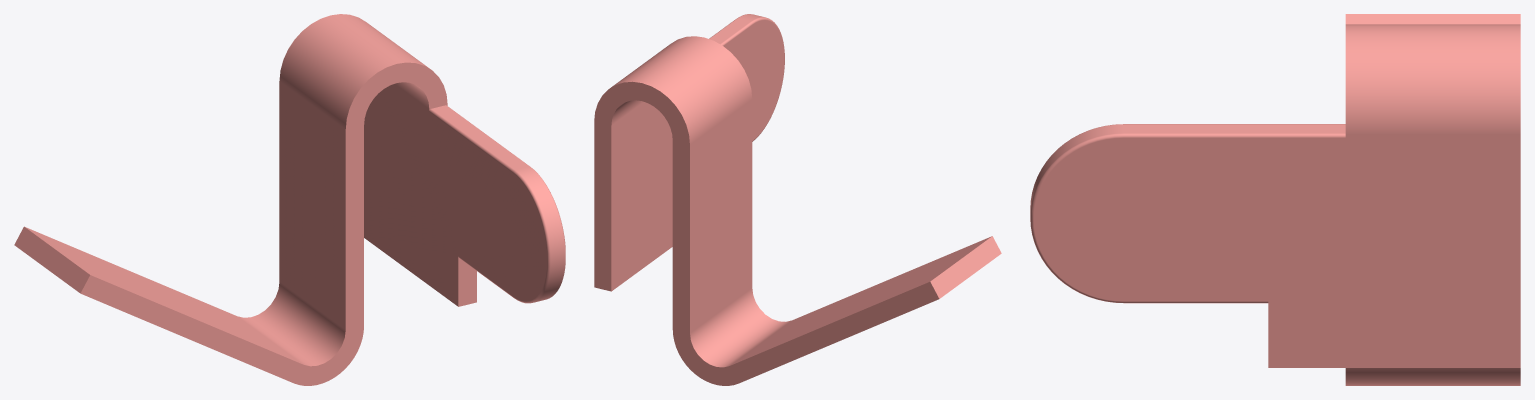
The model's file is part 3 end contact.fbx.
3 renders of one model, left to right at view 1: azimuth 30°, elevation 25°; view 2: azimuth 150°, elevation 25°; view 3: azimuth 270°, elevation 25°, orthographic. The views are drawn at different scales.
Visible parts, largest first — view 1: Default; view 2: Default; view 3: Default.
Part boxes in pixels (box(x1,y1,x2,y2)): Default: box(14, 14, 565, 385); Default: box(594, 14, 1001, 385); Default: box(1030, 14, 1520, 385).
Size of the model in its own units: 3.56 by 2.79 by 3.12.
